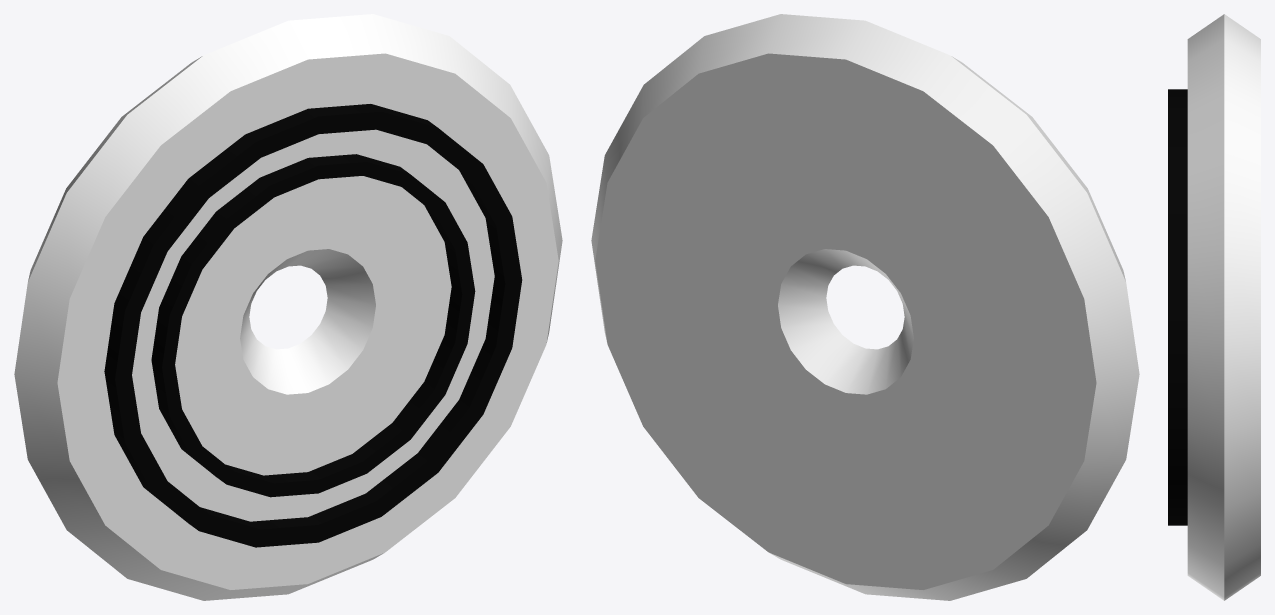
The model's file is mural_sun.fbx.
The picture shows the model from 3 angles, left to right: view 1: azimuth 30°, elevation 25°; view 2: azimuth 150°, elevation 25°; view 3: azimuth 270°, elevation 25°; orthographic projection. The views are drawn at different scales.
Visible parts, largest first — view 1: pTorus1, pPipe3, pPipe1; view 2: pTorus1; view 3: pTorus1, pPipe3.
Boxes of the visible parts, box(x1,y1,x2,y2) form: pTorus1: box(14, 14, 562, 600); pPipe3: box(104, 104, 522, 547); pPipe1: box(151, 154, 475, 497); pTorus1: box(591, 14, 1139, 600); pTorus1: box(1187, 14, 1260, 600); pPipe3: box(1168, 89, 1187, 525).
Size of the model in its own units: 10.5 by 10.5 by 1.65.
